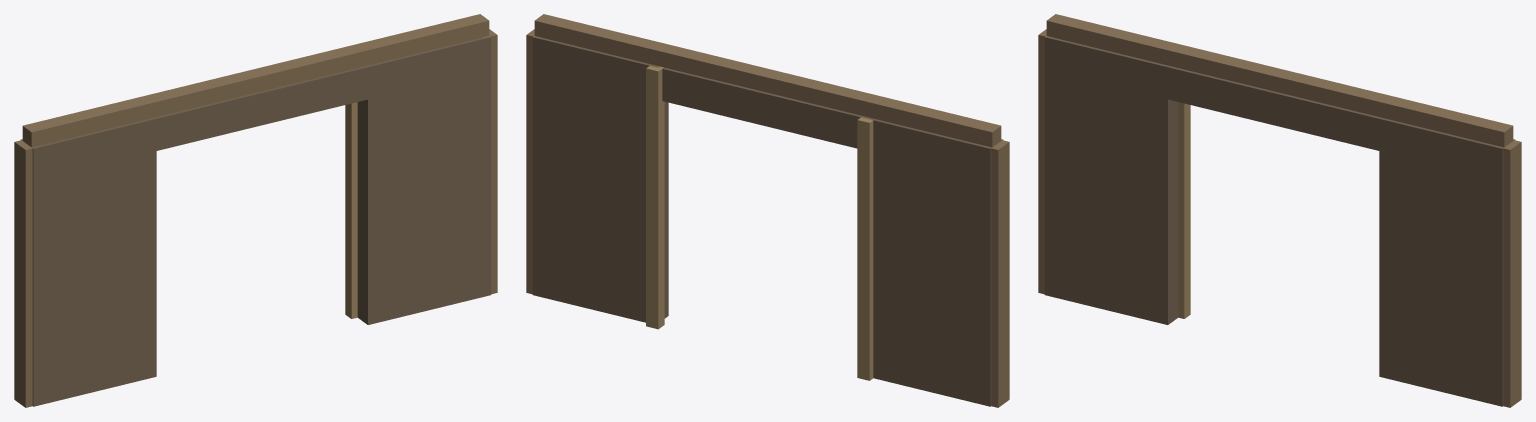
File: S2_Partition_Door.fbx
The picture shows the model from 3 angles, left to right: view 1: azimuth 30°, elevation 25°; view 2: azimuth 150°, elevation 25°; view 3: azimuth 330°, elevation 25°; orthographic projection.
Visible parts, largest first — view 1: S2_Partition_Door; view 2: S2_Partition_Door; view 3: S2_Partition_Door.
Boxes of the visible parts, left/top/right/bottom form: S2_Partition_Door: left=14, top=14, right=497, bottom=407; S2_Partition_Door: left=526, top=14, right=1009, bottom=407; S2_Partition_Door: left=1038, top=14, right=1521, bottom=407.
Size of the model in its own units: 5.36 by 2.96 by 0.3225.
